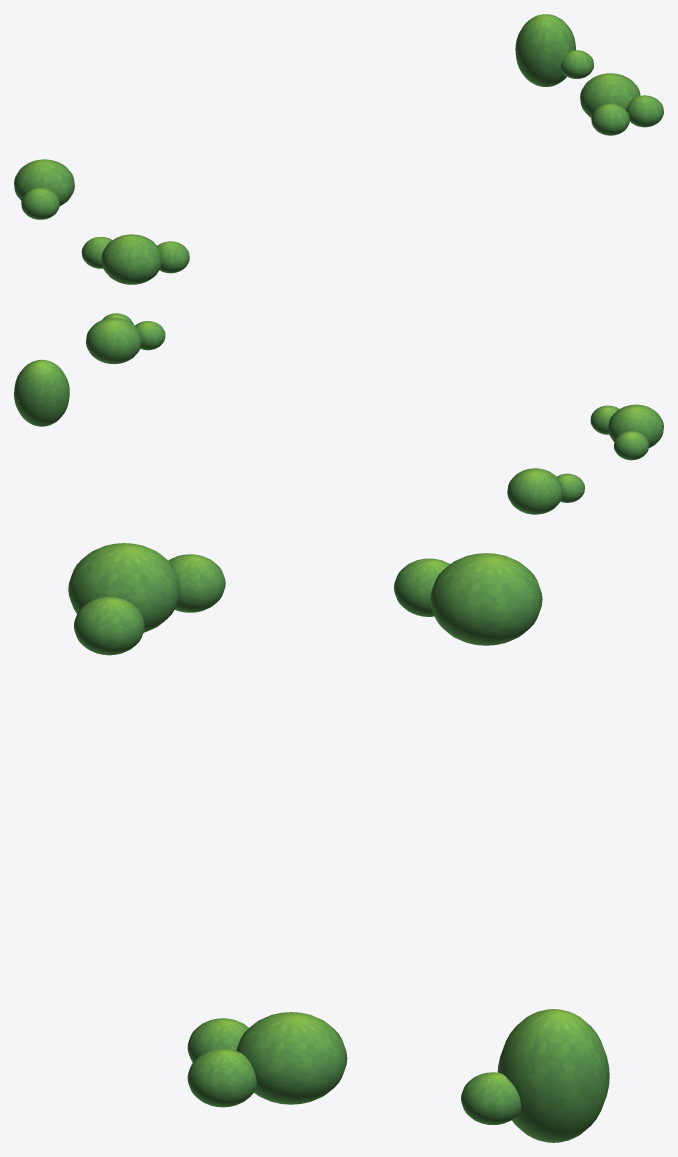
The model's file is buicay.fbx.
3 renders of one model, top to bottom at view 1: azimuth 30°, elevation 25°; view 2: azimuth 150°, elevation 25°; view 3: azimuth 270°, elevation 25°, orthographic. The views are drawn at different scales.
Parts seen in each view (by area): view 1: pSphere9, pSphere3, pSphere1, pSphere6, pSphere8, pSphere2, pSphere7, pSphere4, pSphere10, pSphere5; view 2: pSphere9, pSphere1, pSphere6, pSphere3, pSphere5, pSphere8, pSphere2, pSphere4; view 3: pSphere9, pSphere1, pSphere6, pSphere3, pSphere4, pSphere7, pSphere10, pSphere5, pSphere2, pSphere8.
Part boxes in pixels (x1,y1,x2,y2): pSphere9: [515, 14, 576, 86]; pSphere3: [101, 234, 162, 284]; pSphere1: [14, 159, 74, 205]; pSphere6: [580, 73, 640, 117]; pSphere8: [591, 103, 629, 135]; pSphere2: [21, 188, 59, 219]; pSphere7: [626, 95, 663, 127]; pSphere4: [157, 241, 189, 273]; pSphere10: [560, 50, 593, 78]; pSphere5: [81, 237, 112, 268]; pSphere9: [14, 359, 69, 426]; pSphere1: [507, 468, 562, 514]; pSphere6: [86, 318, 141, 364]; pSphere3: [608, 404, 663, 447]; pSphere5: [614, 431, 648, 460]; pSphere8: [135, 321, 165, 350]; pSphere2: [557, 473, 584, 502]; pSphere4: [590, 405, 619, 434]; pSphere9: [497, 1009, 609, 1142]; pSphere1: [430, 553, 542, 645]; pSphere6: [236, 1012, 347, 1104]; pSphere3: [68, 543, 179, 632]; pSphere4: [74, 596, 144, 655]; pSphere7: [187, 1049, 256, 1107]; pSphere10: [461, 1072, 521, 1124]; pSphere5: [168, 554, 225, 612]; pSphere2: [394, 558, 449, 616]; pSphere8: [187, 1018, 248, 1062].
Size of the model in its own units: 1329 by 147 by 576.
Materials: 1 (1 with a texture image).
